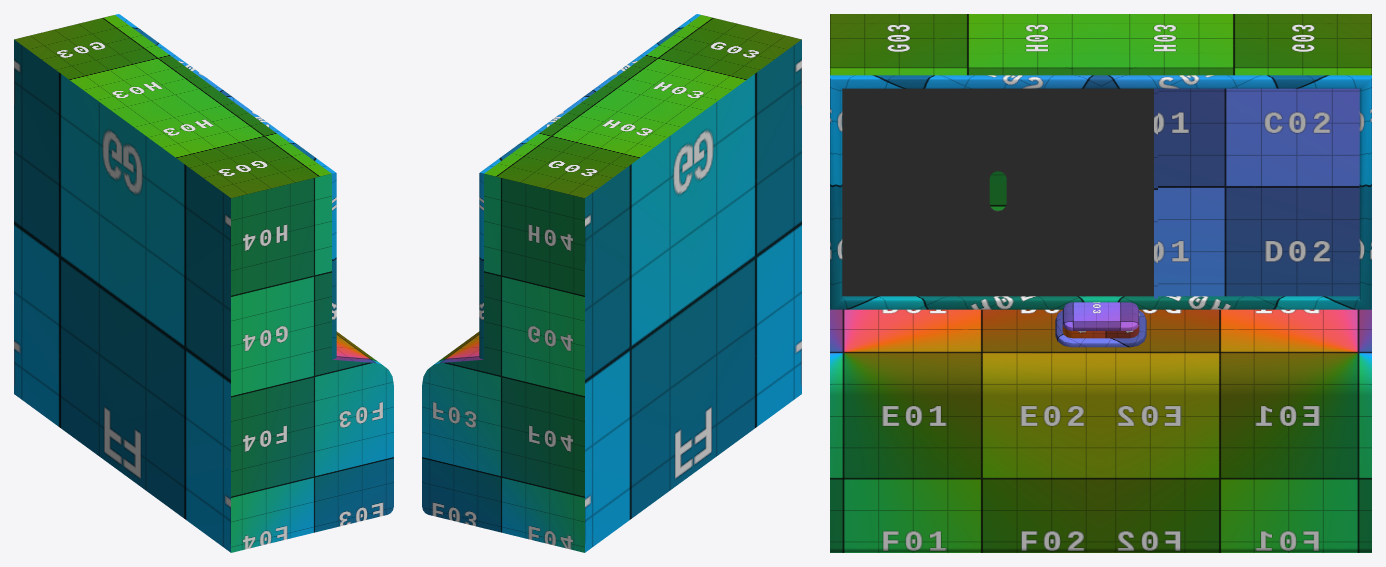
Rendered from BASE_GAGA.fbx.
3 renders of one model, left to right at view 1: azimuth 30°, elevation 25°; view 2: azimuth 150°, elevation 25°; view 3: azimuth 270°, elevation 25°, orthographic. The views are drawn at different scales.
Visible parts, largest first — view 1: RadioBase; view 2: RadioBase; view 3: RadioBase, polySurface9906, polySurface9903, RadioButton_low.
Part boxes in pixels (box(x1,y1,x2,y2)): RadioBase: box(14, 14, 393, 552); RadioBase: box(422, 14, 801, 552); RadioBase: box(830, 14, 1371, 552); polySurface9906: box(842, 88, 997, 296); polySurface9903: box(998, 88, 1153, 296); RadioButton_low: box(1062, 302, 1139, 338).
Bounding box in the file's own units: 118 × 246 × 272.
